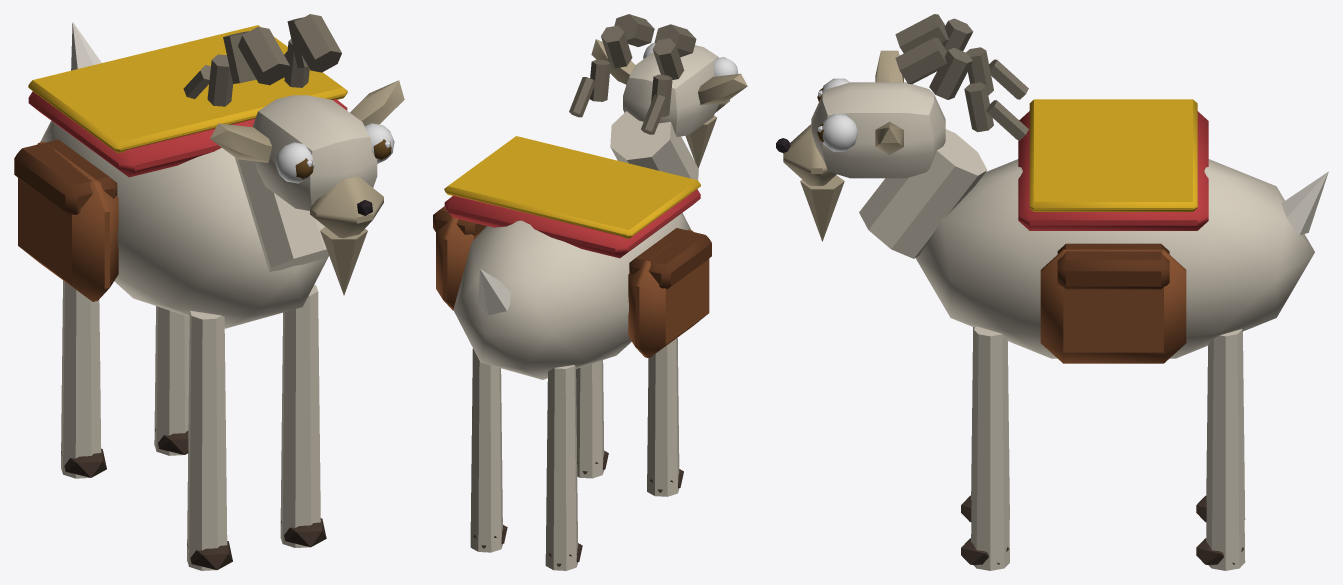
Rendered from comp_ziege.glb.
3 views of the same model, side by side, from view 1: azimuth 30°, elevation 25°; view 2: azimuth 150°, elevation 25°; view 3: azimuth 270°, elevation 25° (orthographic). The views are drawn at different scales.
Visible parts, largest first — view 1: body, head, leg_fl, leg_fr, leg_bl, leg_br, tail; view 2: body, head, leg_bl, leg_br, leg_fl, leg_fr, tail; view 3: body, head, leg_fr, leg_br, tail.
Part boxes in pixels (x1,y1,x2,y2): body: (14,25,347,328); head: (183,14,404,295); leg_fl: (187,310,232,570); leg_fr: (280,285,326,547); leg_bl: (61,280,106,478); leg_br: (154,306,189,455); tail: (71,22,101,70); body: (433,136,711,379); head: (569,14,747,180); leg_bl: (545,365,582,570); leg_br: (470,348,507,552); leg_fl: (647,338,683,496); leg_fr: (576,360,608,478); tail: (478,269,511,315); body: (915,99,1314,363); head: (776,14,1028,258); leg_fr: (961,326,1009,570); leg_br: (1196,329,1245,570); tail: (1281,171,1328,235).
Bounding box in the file's own units: 0.57 × 1.02 × 0.9873.
